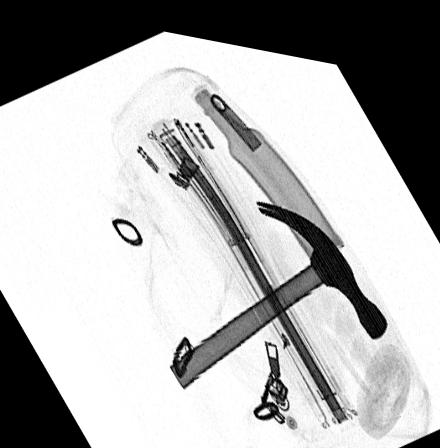Hammer: (167, 187, 388, 382)
